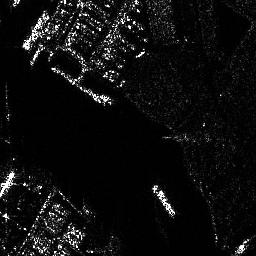ship: (21, 9, 49, 51), (152, 184, 175, 217)
